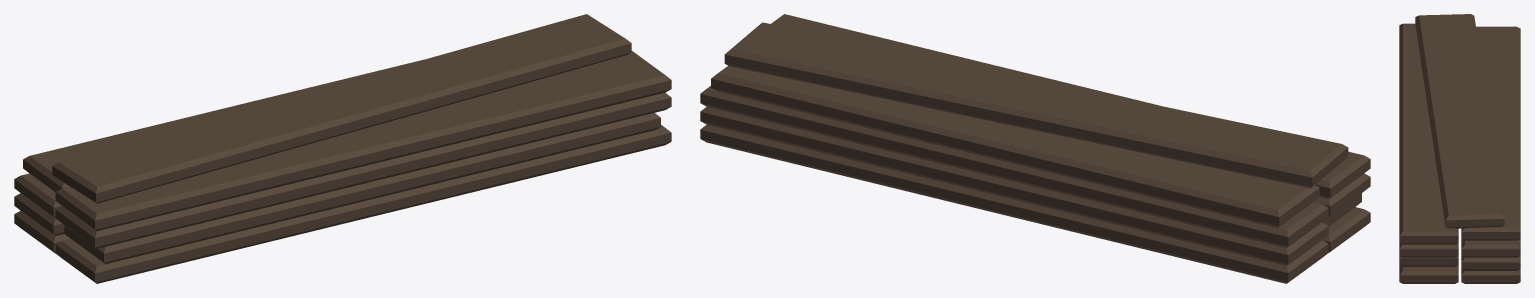
The model's file is props_84.glb.
3 renders of one model, left to right at view 1: azimuth 30°, elevation 25°; view 2: azimuth 150°, elevation 25°; view 3: azimuth 270°, elevation 25°, orthographic. The views are drawn at different scales.
Visible parts, largest first — view 1: props_84; view 2: props_84; view 3: props_84.
Boxes of the visible parts, left/top/right/bottom form: props_84: left=14, top=14, right=671, bottom=283; props_84: left=700, top=14, right=1370, bottom=283; props_84: left=1399, top=14, right=1520, bottom=283.
Size of the model in its own units: 3.54 by 0.5079 by 0.8586.
1 material, 1 textured.
